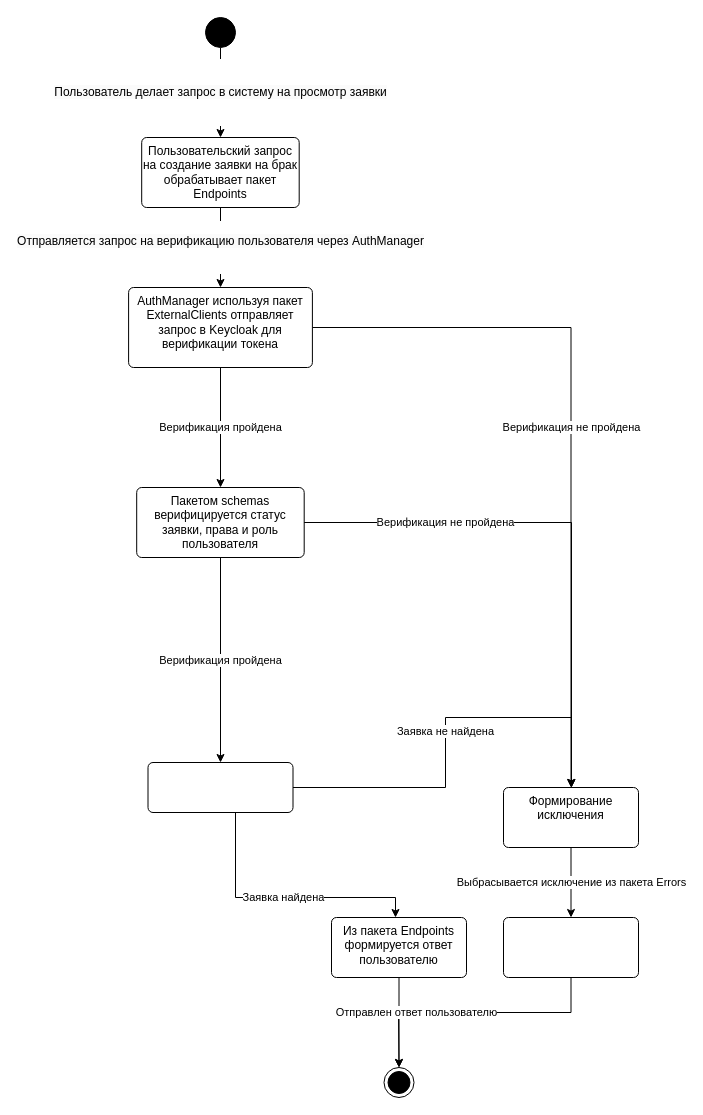
The diagram is 703 pixels wide and 1115 high, and some of its shapes have lost their labels. The shapes that lost their labels are listed below. From the top down, each one's centre as x and y in pixels, then its label:
At (x=220, y=787): "В пакете services происходит поиск заявки".
At (x=570, y=947): "Из пакета app формируется ответ пользователю".
